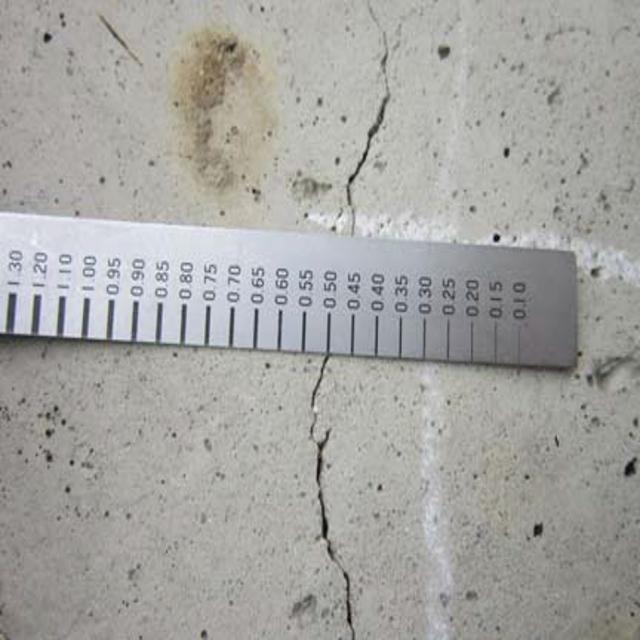crack: (296, 353, 378, 640), (323, 7, 413, 246)
